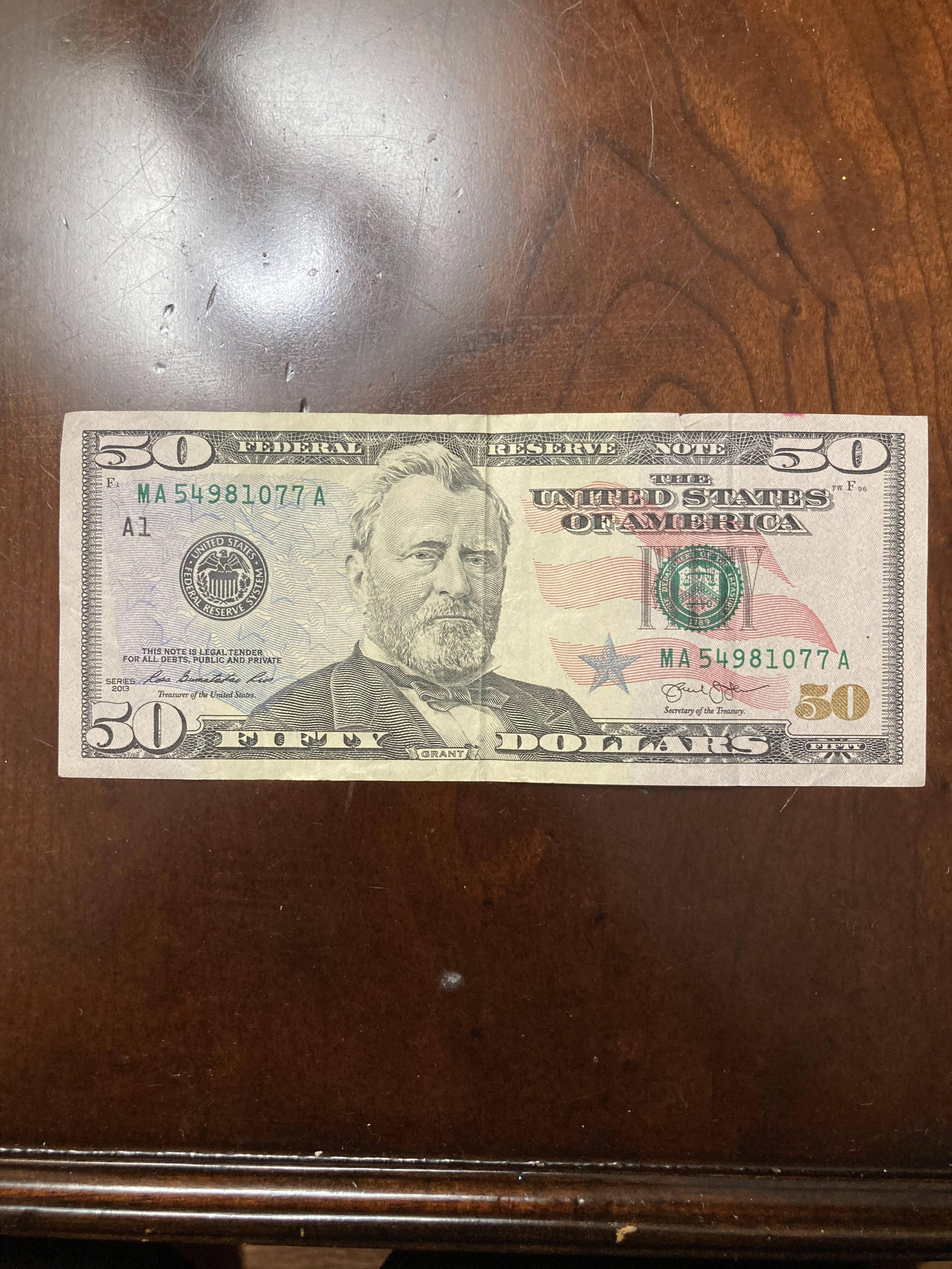fifty-front: (57, 410, 932, 791)
